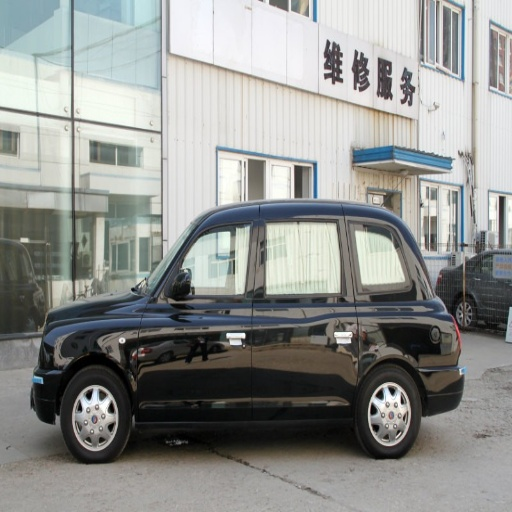trunk: (367, 306, 447, 393)
